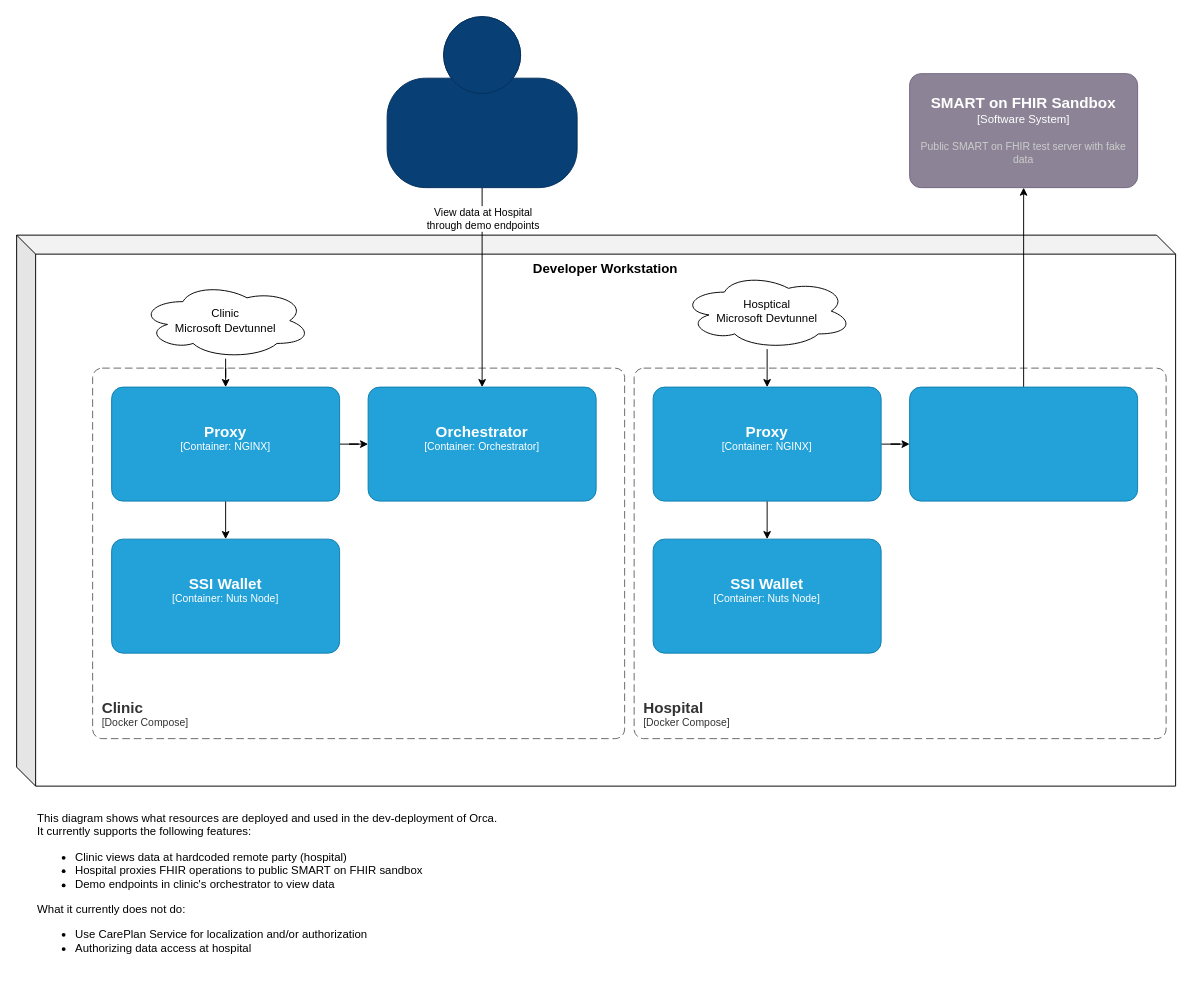
Image size: 1192x983. Some labels were removed from this diagram. The centre of each missing label's shape, as x and y in pixels:
"Developer [Person] Develops Orca" belongs at (481,102).
"SMART on FHIR Adapter [Container: SMART on FHIR Adapter]" belongs at (1023,443).
